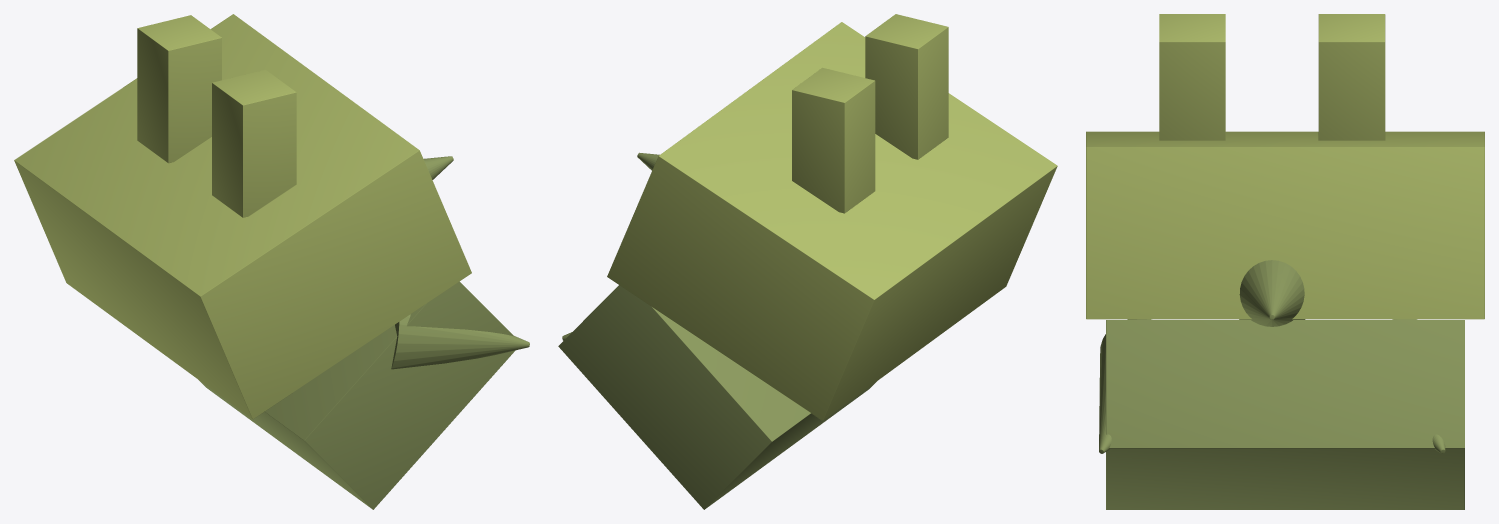
Rendered from riven_pauldron.glb.
The picture shows the model from 3 angles, left to right: view 1: azimuth 30°, elevation 25°; view 2: azimuth 150°, elevation 25°; view 3: azimuth 270°, elevation 25°; orthographic projection. The views are drawn at different scales.
Parts seen in each view (by area): view 1: riven_pauldron; view 2: riven_pauldron; view 3: riven_pauldron.
Boxes of the visible parts, <box> form: riven_pauldron: <box>14,14,529,509</box>; riven_pauldron: <box>558,14,1057,509</box>; riven_pauldron: <box>1086,14,1484,509</box>.
Bounding box in the file's own units: 0.3155 × 0.3661 × 0.3.
